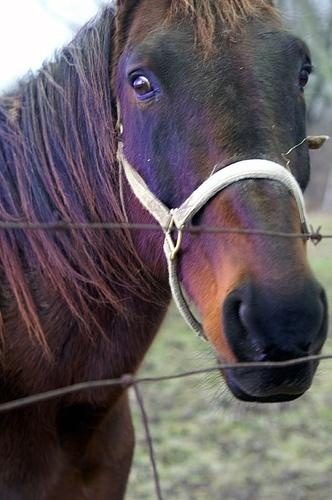horse: (1, 2, 328, 500)
